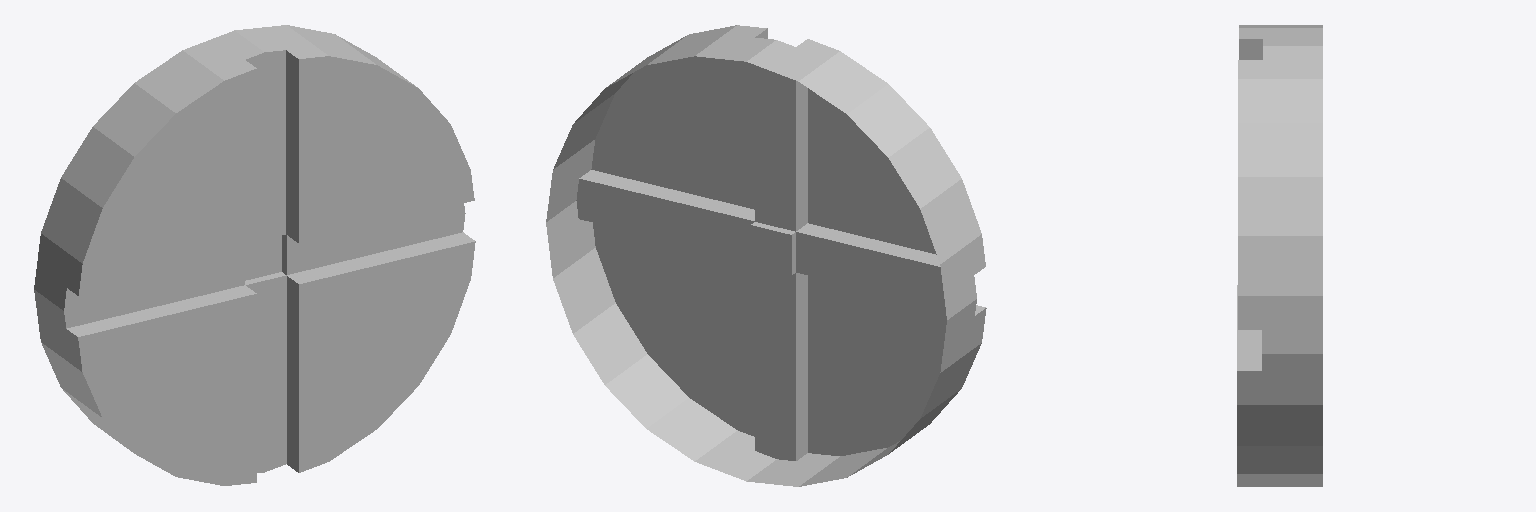
File: original-2.obj
3 views of the same model, side by side, from view 1: azimuth 30°, elevation 25°; view 2: azimuth 150°, elevation 25°; view 3: azimuth 270°, elevation 25° (orthographic).
Parts seen in each view (by area): view 1: 3dw.1f419ba839c771df6d07533ccc0d1b77/Model/Group_1_1/Group_1/mes; view 2: 3dw.1f419ba839c771df6d07533ccc0d1b77/Model/Group_1_1/Group_1/mes; view 3: 3dw.1f419ba839c771df6d07533ccc0d1b77/Model/Group_1_1/Group_1/mes.
Boxes of the visible parts, <box> form: 3dw.1f419ba839c771df6d07533ccc0d1b77/Model/Group_1_1/Group_1/mes: <box>34,25,475,485</box>; 3dw.1f419ba839c771df6d07533ccc0d1b77/Model/Group_1_1/Group_1/mes: <box>546,25,986,486</box>; 3dw.1f419ba839c771df6d07533ccc0d1b77/Model/Group_1_1/Group_1/mes: <box>1237,25,1322,486</box>.
Bounding box in the file's own units: 0.1653 × 0.1653 × 0.0306.